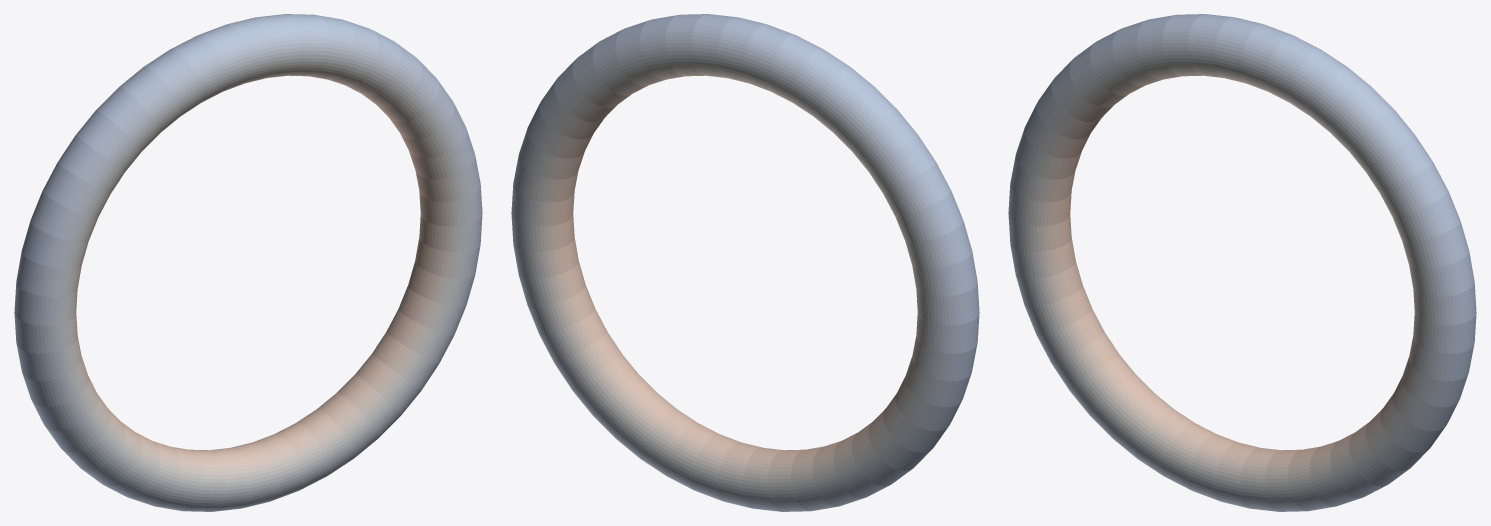
The picture shows the model from 3 angles, left to right: view 1: azimuth 30°, elevation 25°; view 2: azimuth 150°, elevation 25°; view 3: azimuth 330°, elevation 25°; orthographic projection.
Parts seen in each view (by area): view 1: world; view 2: world; view 3: world.
Boxes of the visible parts, x1=… form: world: x1=14, y1=14, x2=482, y2=511; world: x1=511, y1=14, x2=979, y2=511; world: x1=1008, y1=14, x2=1476, y2=511.
Size of the model in its own units: 33.2 by 33.13 by 3.86.
